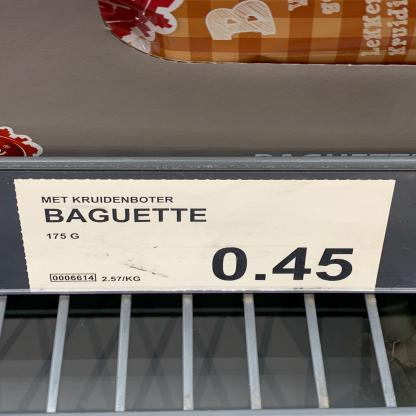prtg: (14, 179, 397, 293)
